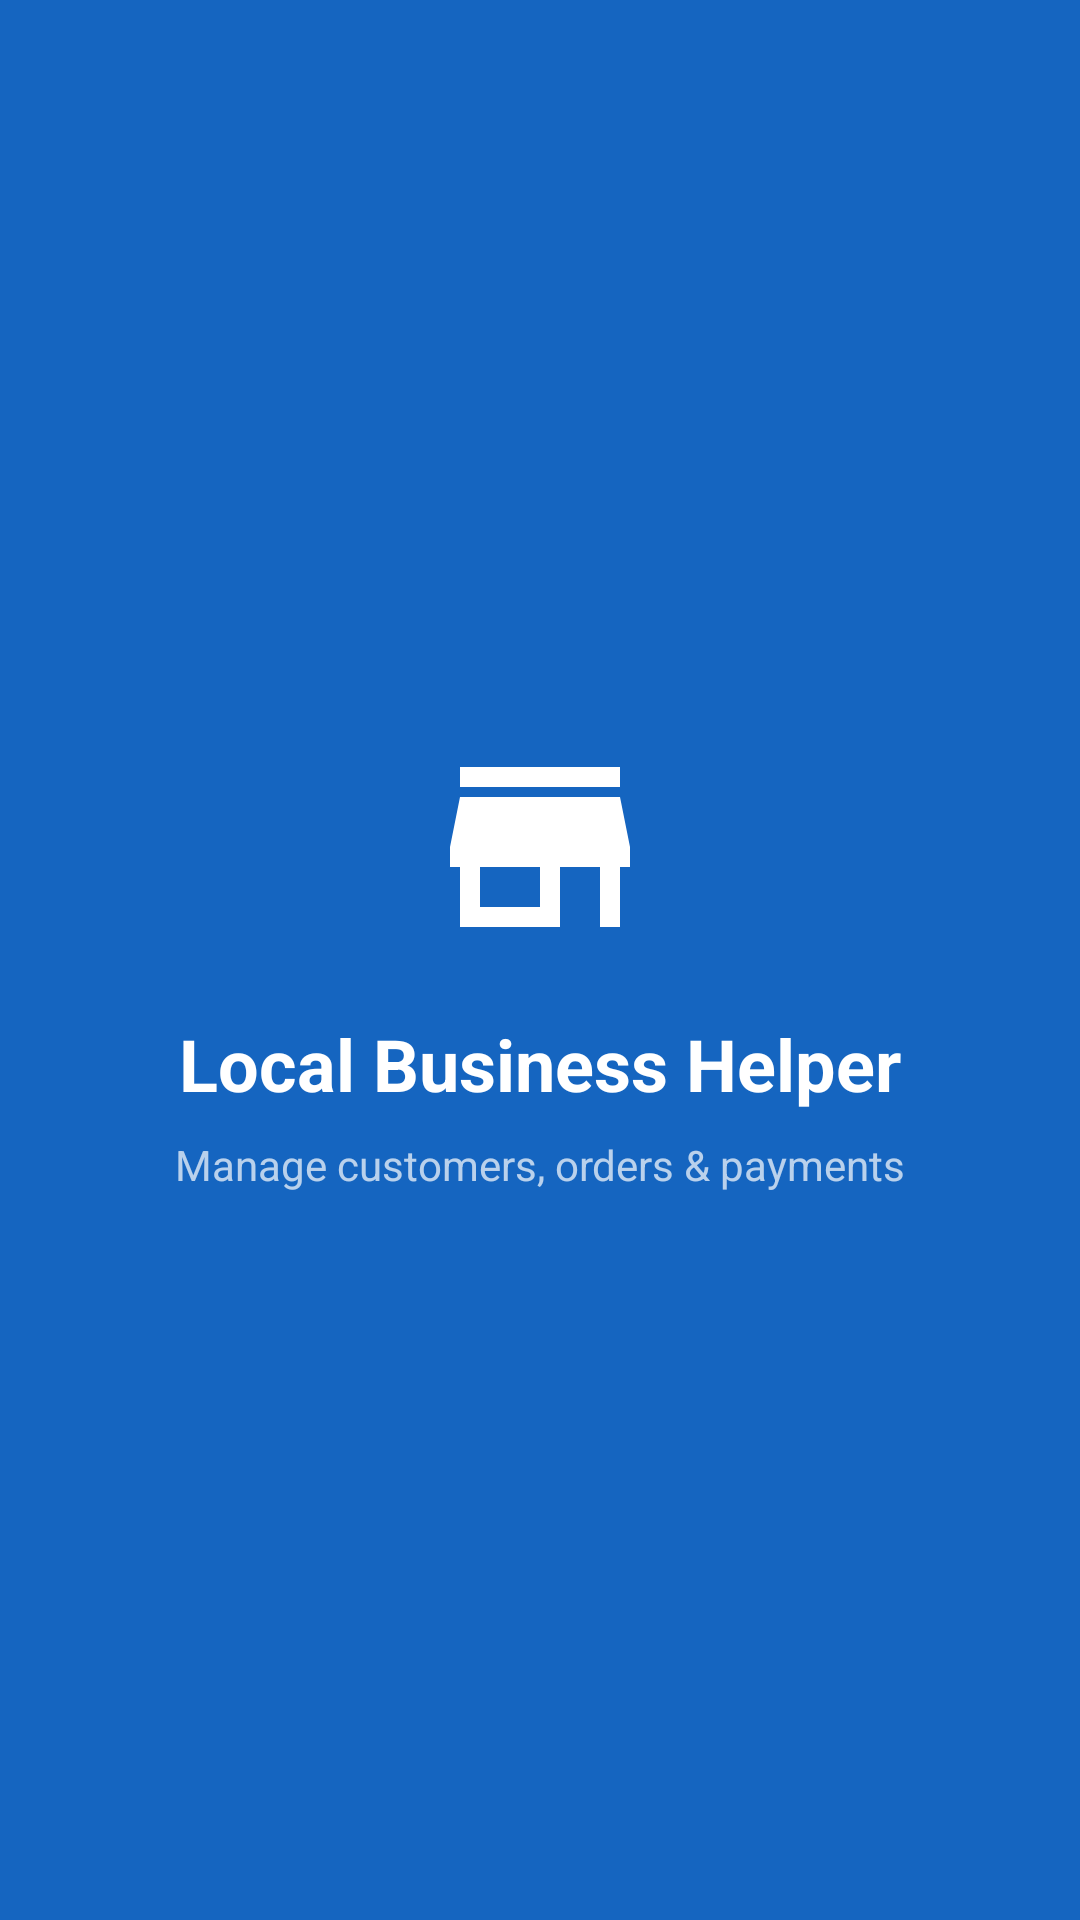

Icon bounding boxes for this 1080 x 1920 phone screenshot, format (x1, y1, x2, y2):
store: (450, 767, 630, 927)
